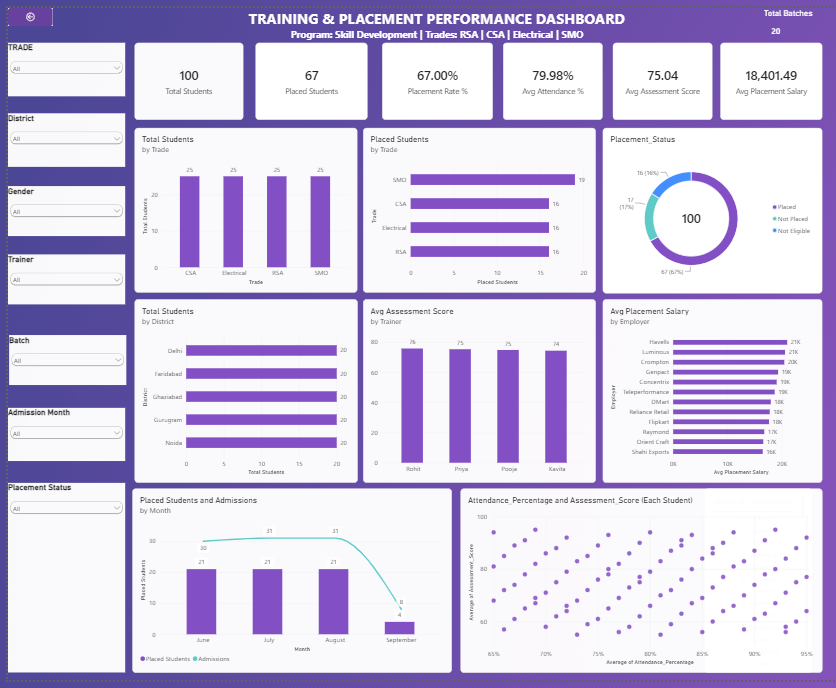

The page's visual inventory and layout, read from the dashboard file:
{"tool":"powerbi","page":{"name":"Training & Placement","canvas":[1920,1500],"ordinal":0},"visuals":[{"type":"card","fields":{"Values":["Count(trainingplacementanalytics placement.Student_ID)"]},"box":[282.5,77.5,242.5,172.5],"z":0},{"type":"card","fields":{"Values":["Count(trainingplacementanalytics placement)"]},"box":[552.5,77.5,250,172.5],"z":1000},{"type":"card","fields":{"Values":["trainingplacementanalytics students.Placement Rate %"]},"box":[835,77.5,247.5,172.5],"z":2000},{"type":"card","fields":{"Values":["trainingplacementanalytics students.Avg Attendance %"]},"box":[1105,77.5,222.5,172.5],"z":3000},{"type":"card","fields":{"Values":["trainingplacementanalytics training_performance.Avg Assessment Score"]},"box":[1350,77.5,222.5,172.5],"z":4000},{"type":"card","fields":{"Values":["trainingplacementanalytics placement.Avg Placement Salary"]},"box":[1590,77.5,227.5,172.5],"z":5000},{"type":"columnChart","fields":{"Category":["trainingplacementanalytics students.Trade"],"Y":["trainingplacementanalytics students.Total Students"]},"box":[283.3,268.3,497.5,367.5],"z":6000},{"type":"clusteredBarChart","fields":{"Category":["trainingplacementanalytics students.Trade"],"Y":["trainingplacementanalytics students.Placed Students"]},"box":[791.7,268.3,520,367.5],"z":7000},{"type":"donutChart","title":"Placement_Status","fields":{"Category":["trainingplacementanalytics placement.Placement_Status"],"Y":["CountNonNull(trainingplacementanalytics placement.Placement_Status)"]},"box":[1328.3,268.3,490,370],"z":8000},{"type":"barChart","fields":{"Category":["trainingplacementanalytics students.District"],"Y":["trainingplacementanalytics students.Total Students"]},"box":[283.3,650,498.3,410],"z":9000},{"type":"columnChart","fields":{"Category":["trainingplacementanalytics training_performance.Trainer"],"Y":["trainingplacementanalytics training_performance.Avg Assessment Score"]},"box":[791.7,650,520,410],"z":10000},{"type":"clusteredBarChart","fields":{"Category":["trainingplacementanalytics placement.Employer"],"Y":["trainingplacementanalytics placement.Avg Placement Salary"]},"box":[1328.3,650,490,410],"z":11000},{"type":"lineClusteredColumnComboChart","fields":{"Category":["trainingplacementanalytics students.Admission_Date.Variation.Date Hierarchy.Month"],"Y":["trainingplacementanalytics students.Placed Students"],"Y2":["trainingplacementanalytics students.Admissions"]},"box":[278.3,1071.7,713.3,411.7],"z":12000},{"type":"slicer","title":"TRADE","fields":{"Values":["trainingplacementanalytics students.Trade"]},"box":[0,78,261.7,120],"z":14000},{"type":"slicer","title":"District","fields":{"Values":["trainingplacementanalytics students.District"]},"box":[0,235,261.7,120],"z":15000},{"type":"tableEx","fields":{"Values":["trainingplacementanalytics students.Student_ID","trainingplacementanalytics students.Student_Name"]},"box":[1556,1072,240,412],"z":15500},{"type":"slicer","title":"Gender","fields":{"Values":["trainingplacementanalytics students.Gender"]},"box":[0,396.7,261.7,111.7],"z":16000},{"type":"scatterChart","title":"Attendance_Percentage and Assessment_Score (Each Student)","fields":{"Category":["trainingplacementanalytics students.Student_ID"],"X":["Avg(trainingplacementanalytics training_performance.Attendance_Percentage)"],"Y":["Avg(trainingplacementanalytics training_performance.Assessment_Score)"]},"box":[1010,1071.7,808.3,411.7],"z":16500},{"type":"slicer","title":"Trainer","fields":{"Values":["trainingplacementanalytics training_performance.Trainer"]},"box":[0,550,261.7,111.7],"z":17000},{"type":"slicer","title":"Batch","fields":{"Values":["trainingplacementanalytics students.Batch"]},"box":[1.7,730,261.7,111.7],"z":18000},{"type":"slicer","title":"Admission Month","fields":{"Values":["trainingplacementanalytics students.Admission_Date.Variation.Date Hierarchy.Month"]},"box":[0,891.7,261.7,118.3],"z":19000},{"type":"slicer","title":"Placement Status","fields":{"Values":["trainingplacementanalytics placement.Placement_Status"]},"box":[0,1060,261.7,423.3],"z":20000},{"type":"cardVisual","title":"Total Batches","fields":{"Data":["trainingplacementanalytics students.Total Batches"]},"box":[1688.3,0,148.3,78.3],"z":21000},{"type":"textbox","box":[388,0,1140,150],"z":23000},{"type":"actionButton","box":[0,0,100,40],"z":23001}]}

Visuals, with their boxes in screenshot pixels (x1, y1, x2, y2):
card - Count(trainingplacementanalytics placement.Student_ID): {"x1": 132, "y1": 43, "x2": 240, "y2": 120}
card - Count(trainingplacementanalytics placement): {"x1": 252, "y1": 43, "x2": 364, "y2": 120}
card - trainingplacementanalytics students.Placement Rate %: {"x1": 378, "y1": 43, "x2": 488, "y2": 120}
card - trainingplacementanalytics students.Avg Attendance %: {"x1": 498, "y1": 43, "x2": 598, "y2": 120}
card - trainingplacementanalytics training_performance.Avg Assessment Score: {"x1": 608, "y1": 43, "x2": 707, "y2": 120}
card - trainingplacementanalytics placement.Avg Placement Salary: {"x1": 714, "y1": 43, "x2": 816, "y2": 120}
columnChart - trainingplacementanalytics students.Trade x trainingplacementanalytics students.Total Students: {"x1": 133, "y1": 128, "x2": 354, "y2": 292}
clusteredBarChart - trainingplacementanalytics students.Trade x trainingplacementanalytics students.Placed Students: {"x1": 359, "y1": 128, "x2": 590, "y2": 292}
"Placement_Status" donutChart: {"x1": 598, "y1": 128, "x2": 816, "y2": 293}
barChart - trainingplacementanalytics students.District x trainingplacementanalytics students.Total Students: {"x1": 133, "y1": 298, "x2": 354, "y2": 481}
columnChart - trainingplacementanalytics training_performance.Trainer x trainingplacementanalytics training_performance.Avg Assessment Score: {"x1": 359, "y1": 298, "x2": 590, "y2": 481}
clusteredBarChart - trainingplacementanalytics placement.Employer x trainingplacementanalytics placement.Avg Placement Salary: {"x1": 598, "y1": 298, "x2": 816, "y2": 481}
lineClusteredColumnComboChart - trainingplacementanalytics students.Admission_Date.Variation.Date Hierarchy.Month x trainingplacementanalytics students.Placed Students: {"x1": 130, "y1": 486, "x2": 448, "y2": 669}
"TRADE" slicer: {"x1": 7, "y1": 43, "x2": 123, "y2": 97}
"District" slicer: {"x1": 7, "y1": 113, "x2": 123, "y2": 167}
tableEx - trainingplacementanalytics students.Student_ID x trainingplacementanalytics students.Student_Name: {"x1": 699, "y1": 486, "x2": 806, "y2": 669}
"Gender" slicer: {"x1": 7, "y1": 185, "x2": 123, "y2": 235}
"Attendance_Percentage and Assessment_Score (Each Student)" scatterChart: {"x1": 456, "y1": 486, "x2": 816, "y2": 669}
"Trainer" slicer: {"x1": 7, "y1": 254, "x2": 123, "y2": 303}
"Batch" slicer: {"x1": 7, "y1": 334, "x2": 124, "y2": 383}
"Admission Month" slicer: {"x1": 7, "y1": 406, "x2": 123, "y2": 458}
"Placement Status" slicer: {"x1": 7, "y1": 481, "x2": 123, "y2": 669}
"Total Batches" cardVisual: {"x1": 758, "y1": 9, "x2": 824, "y2": 44}
textbox: {"x1": 179, "y1": 9, "x2": 687, "y2": 75}
actionButton: {"x1": 7, "y1": 9, "x2": 51, "y2": 27}
